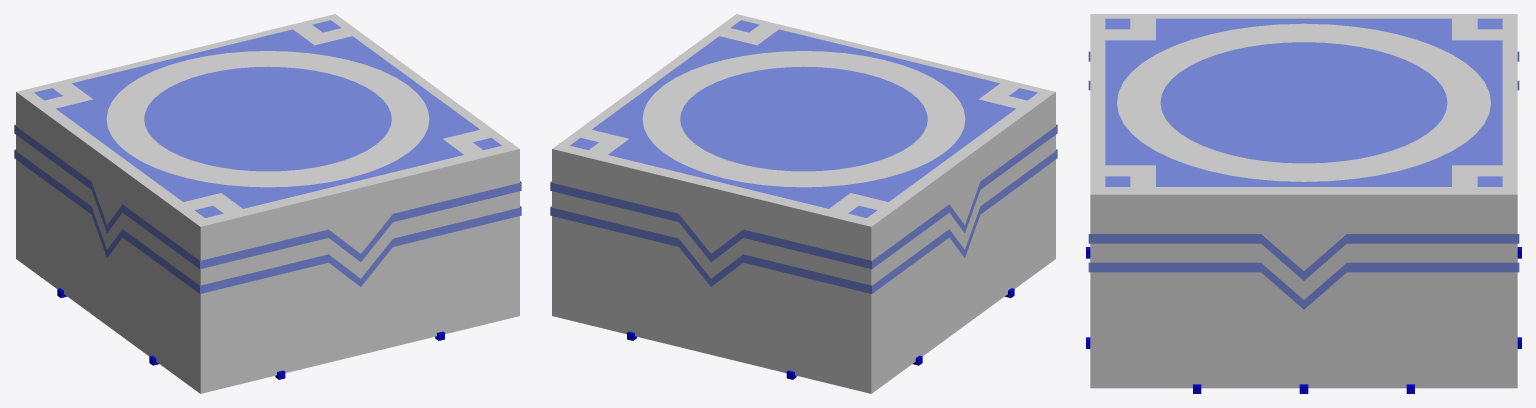
Rendered from storeSpace.glb.
3 renders of one model, left to right at view 1: azimuth 30°, elevation 25°; view 2: azimuth 150°, elevation 25°; view 3: azimuth 270°, elevation 25°, orthographic. The views are drawn at different scales.
Parts seen in each view (by area): view 1: cube, col2; view 2: cube, col2; view 3: cube, col2.
Boxes of the visible parts, x1,y1,x2,y2 form: cube: [16, 14, 519, 393]; col2: [14, 20, 521, 293]; cube: [552, 14, 1055, 393]; col2: [550, 20, 1057, 293]; cube: [1090, 14, 1517, 388]; col2: [1088, 18, 1519, 309].
Bounding box in the file's own units: 10.2 × 5.14 × 10.2.
